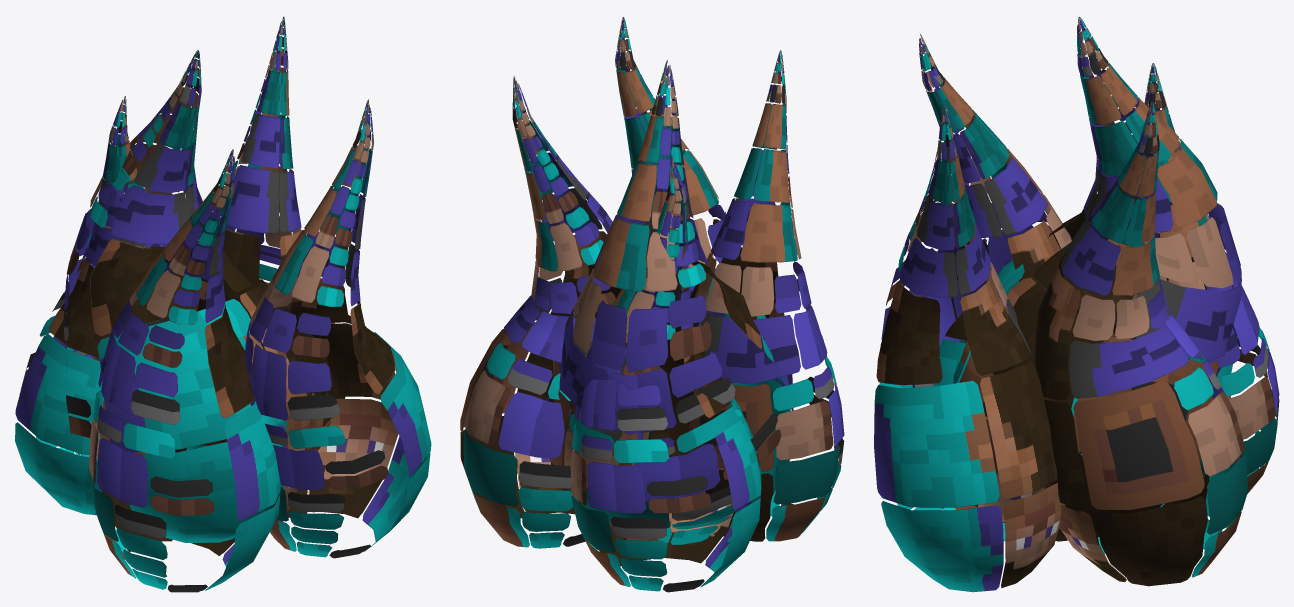
The picture shows the model from 3 angles, left to right: view 1: azimuth 30°, elevation 25°; view 2: azimuth 150°, elevation 25°; view 3: azimuth 270°, elevation 25°; orthographic projection. The views are drawn at different scales.
Visible parts, largest first — view 1: flame_NurbsPath.015; view 2: flame_NurbsPath.015; view 3: flame_NurbsPath.015.
Part boxes in pixels (<box>): flame_NurbsPath.015: <box>15,16,431,592</box>; flame_NurbsPath.015: <box>460,17,844,592</box>; flame_NurbsPath.015: <box>874,17,1279,592</box>.
Size of the model in its own units: 0.7534 by 1.16 by 0.8117.
